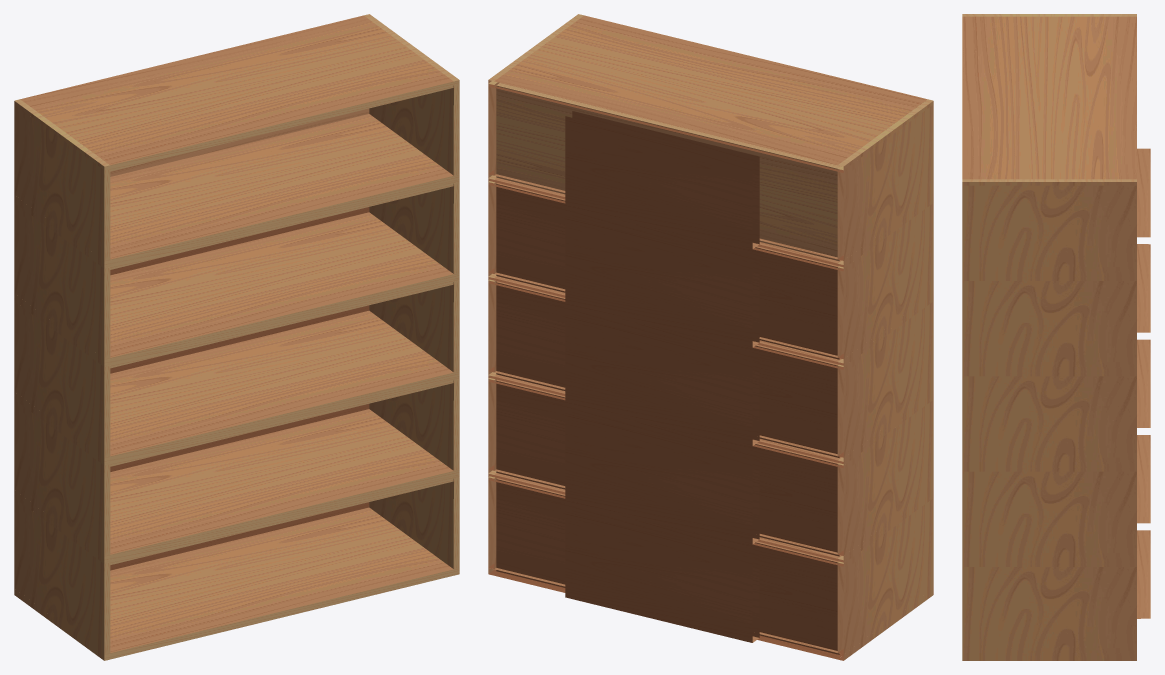
Rendered from layout_wide_5s_open_11w.fbx.
The picture shows the model from 3 angles, left to right: view 1: azimuth 30°, elevation 25°; view 2: azimuth 150°, elevation 25°; view 3: azimuth 270°, elevation 25°; orthographic projection. The views are drawn at different scales.
Parts seen in each view (by area): view 1: Shelf-TM-00 4, Shelf-BM-00, Shelf-BM-00 4, Shelf-BM-00 2, Shelf-BM-00 3, Shelf-BM-00 1, Shelf-CL-01 3, Shelf-CL-01, Shelf-CL-01 1, Shelf-CL-01 4, Shelf-CL-01 2, Shelf-CR-01 2 (+15 smaller); view 2: Shelf-TM-00 4, Shelf-Back-00 (1) 3, Shelf-Back-00 (1), Shelf-Back-00 (1) 1, Shelf-Back-00 (1) 2, Shelf-Back-00 (1) 4, Shelf-Back-00 4, Shelf-Back-00, Shelf-Back-00 3, Shelf-Back-00 1, Shelf-Back-00 2, Shelf-CL-01 4 (+20 smaller); view 3: Shelf-TM-00 4, Shelf-CR-01 1, Shelf-CR-01 4, Shelf-CR-01, Shelf-CR-01 2, Shelf-CR-01 3, Shelf-Back-00 (1) 4, Shelf-Back-00 (1), Shelf-Back-00 (1) 1, Shelf-Back-00 (1) 2, Shelf-Back-00 (1) 3, Shelf-CR-00 (+10 smaller).
Part boxes in pixels (x1=…): Shelf-TM-00 4: x1=20, y1=15, x2=453, y2=171; Shelf-BM-00: x1=110, y1=507, x2=453, y2=659; Shelf-BM-00 4: x1=110, y1=114, x2=453, y2=265; Shelf-BM-00 2: x1=110, y1=310, x2=453, y2=461; Shelf-BM-00 3: x1=110, y1=212, x2=453, y2=363; Shelf-BM-00 1: x1=110, y1=409, x2=453, y2=558; Shelf-CL-01 3: x1=14, y1=203, x2=110, y2=359; Shelf-CL-01: x1=14, y1=498, x2=110, y2=654; Shelf-CL-01 1: x1=14, y1=400, x2=110, y2=555; Shelf-CL-01 4: x1=14, y1=104, x2=110, y2=260; Shelf-CL-01 2: x1=14, y1=301, x2=110, y2=457; Shelf-CR-01 2: x1=369, y1=280, x2=459, y2=372; Shelf-TM-00 4: x1=494, y1=15, x2=927, y2=171; Shelf-Back-00 (1) 3: x1=565, y1=209, x2=759, y2=347; Shelf-Back-00 (1): x1=565, y1=504, x2=759, y2=642; Shelf-Back-00 (1) 1: x1=565, y1=406, x2=759, y2=544; Shelf-Back-00 (1) 2: x1=565, y1=307, x2=759, y2=446; Shelf-Back-00 (1) 4: x1=565, y1=111, x2=759, y2=249; Shelf-Back-00 4: x1=496, y1=83, x2=840, y2=261; Shelf-Back-00: x1=496, y1=478, x2=839, y2=654; Shelf-Back-00 3: x1=496, y1=183, x2=839, y2=359; Shelf-Back-00 1: x1=496, y1=379, x2=839, y2=556; Shelf-Back-00 2: x1=496, y1=281, x2=839, y2=457; Shelf-CL-01 4: x1=837, y1=104, x2=933, y2=260; Shelf-TM-00 4: x1=962, y1=16, x2=1136, y2=179; Shelf-CR-01 1: x1=962, y1=471, x2=1136, y2=559; Shelf-CR-01 4: x1=962, y1=185, x2=1136, y2=273; Shelf-CR-01: x1=962, y1=567, x2=1136, y2=654; Shelf-CR-01 2: x1=962, y1=376, x2=1136, y2=463; Shelf-CR-01 3: x1=962, y1=281, x2=1136, y2=368; Shelf-Back-00 (1) 4: x1=1137, y1=148, x2=1150, y2=237; Shelf-Back-00 (1): x1=1137, y1=530, x2=1150, y2=618; Shelf-Back-00 (1) 1: x1=1137, y1=435, x2=1150, y2=523; Shelf-Back-00 (1) 2: x1=1137, y1=339, x2=1150, y2=427; Shelf-Back-00 (1) 3: x1=1137, y1=244, x2=1150, y2=332; Shelf-CR-00: x1=962, y1=654, x2=1136, y2=660.
Bounding box in the file's own units: 182 × 242 × 86.3.
